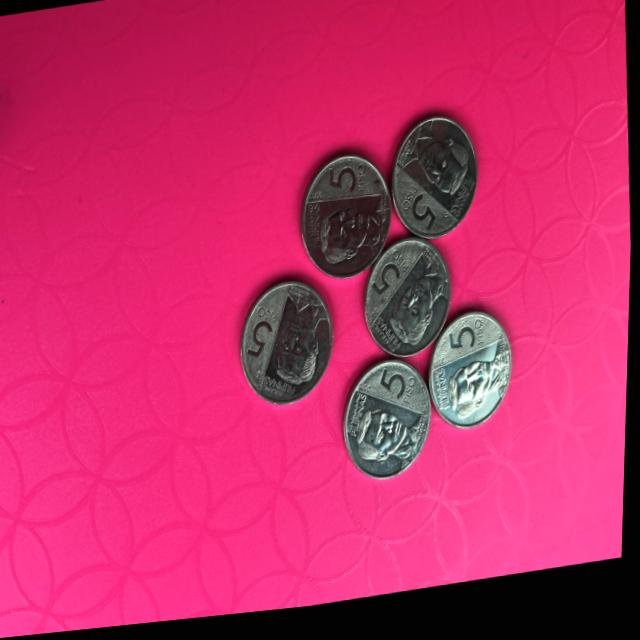5_New_Front: (366, 249, 424, 314), (393, 180, 445, 250), (241, 305, 285, 380), (311, 167, 382, 213), (440, 322, 493, 367), (373, 371, 424, 414)
